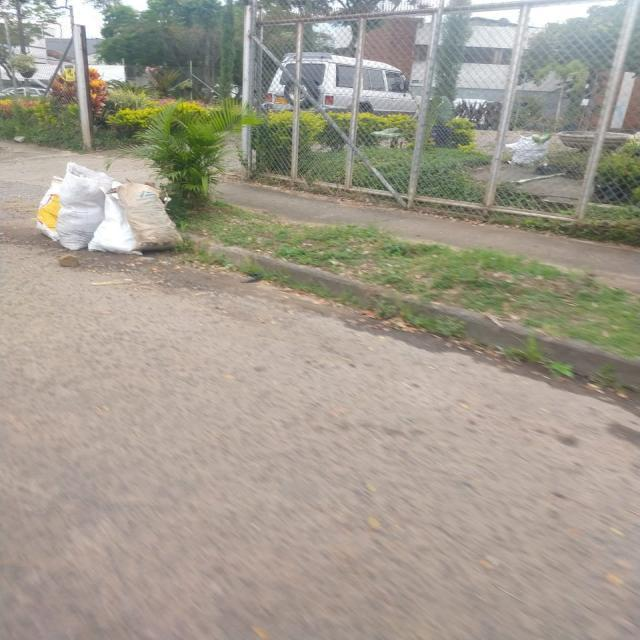Garbage_Bag: (114, 179, 187, 251), (57, 160, 105, 250), (92, 180, 142, 256), (32, 168, 66, 240)
